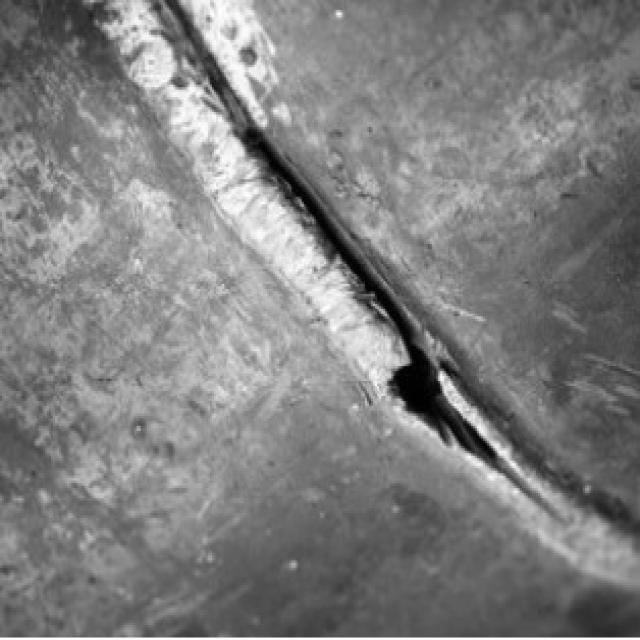Defect: (156, 0, 504, 463)
